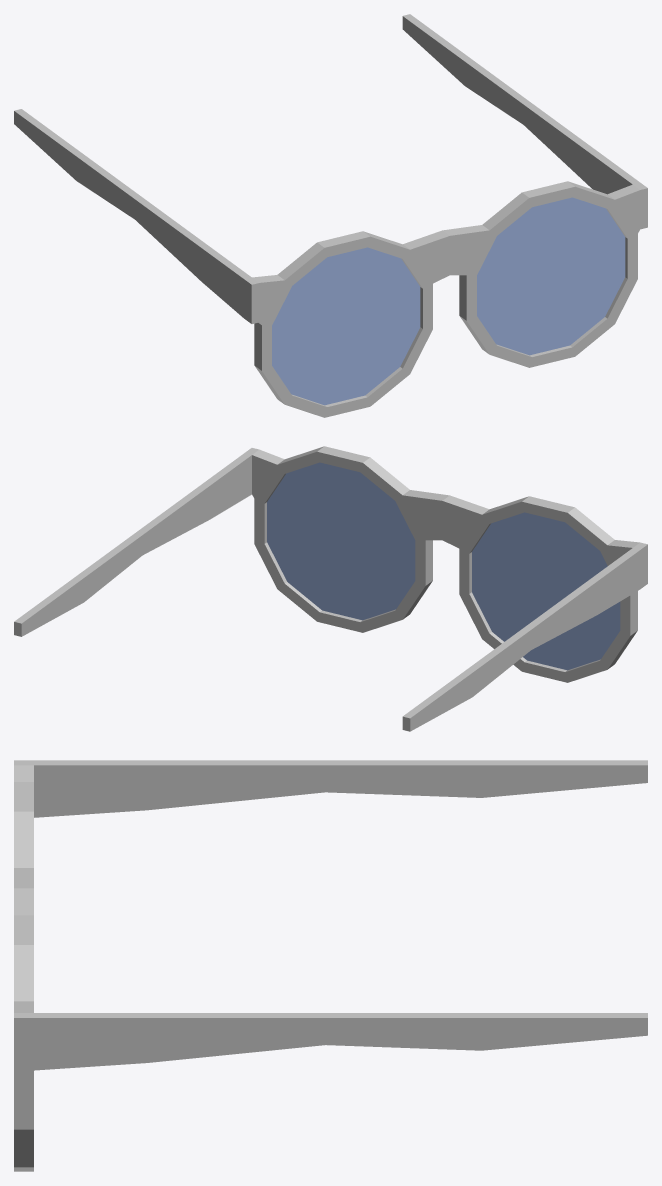
The model's file is SM_Glasses_01_A.gltf.
3 views of the same model, one above another, from view 1: azimuth 30°, elevation 25°; view 2: azimuth 150°, elevation 25°; view 3: azimuth 270°, elevation 25° (orthographic). The views are drawn at different scales.
Visible parts, largest first — view 1: Glasses_01_A; view 2: Glasses_01_A; view 3: Glasses_01_A.
Part boxes in pixels (x1,y1,x2,y2): Glasses_01_A: (14, 14, 647, 417); Glasses_01_A: (14, 446, 647, 731); Glasses_01_A: (14, 760, 647, 1171).
Bounding box in the file's own units: 0.1795 × 0.0736 × 0.1867.
